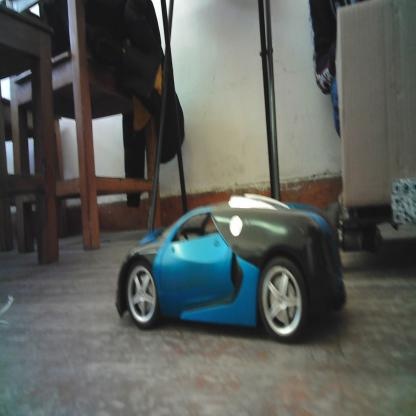LeadTruck: (328, 1, 416, 256)
